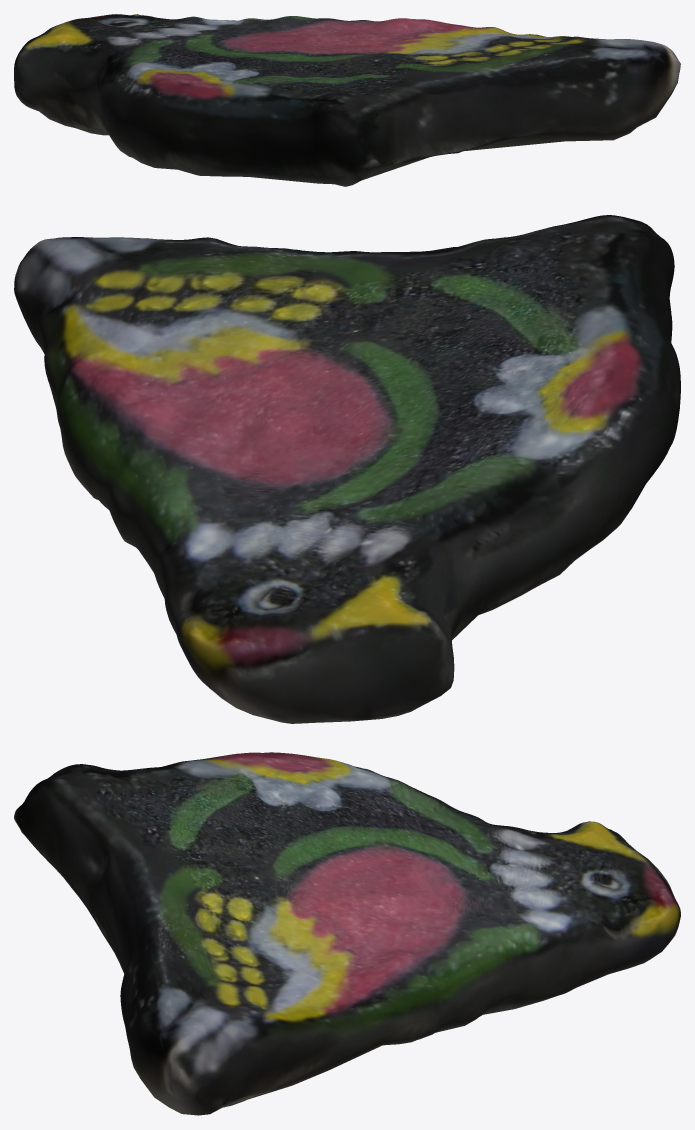
3 views of the same model, one above another, from view 1: azimuth 30°, elevation 25°; view 2: azimuth 150°, elevation 25°; view 3: azimuth 270°, elevation 25° (orthographic). The views are drawn at different scales.
Size of the model in its own units: 0.5116 by 0.1664 by 0.5258.
Materials: 1 (1 with a texture image).
